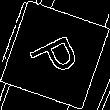P_NE: (24, 27, 86, 83)
